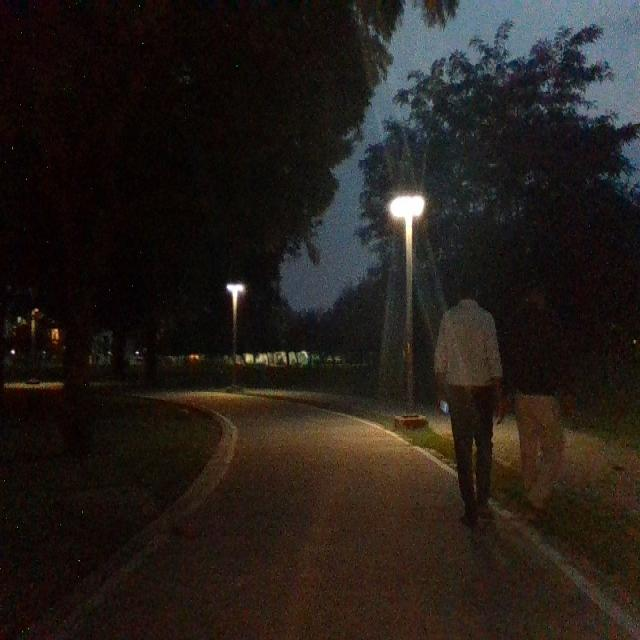lane: (82, 392, 624, 628)
